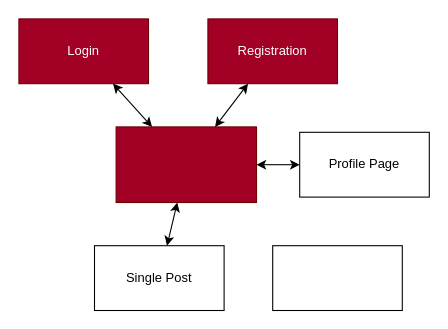
Image size: 448x329. Some labels were removed from this diagram. The shapes that lost their labels are listed below. From the top down, each one's box as (x1, y1, x2, y2) in pixels, then its label:
(115, 126, 256, 202): Home Page
(272, 245, 402, 310): Create Post
